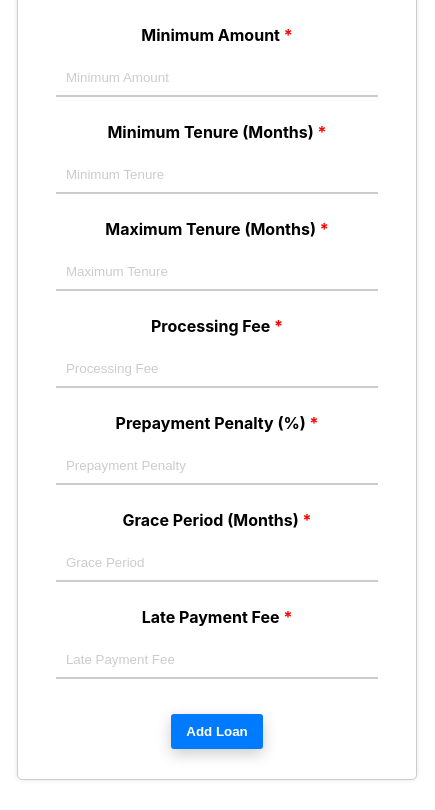
it: LoanForm Component › frontend_loanform_loan_manager_component_displays_required_validation_messages
The width and height of the screenshot is (435, 810).
(page scrolled)
Step 1. Click the button "Add Loan" → (217, 732), box top-left (171, 714), bottom-right (263, 749)
(page scrolled)
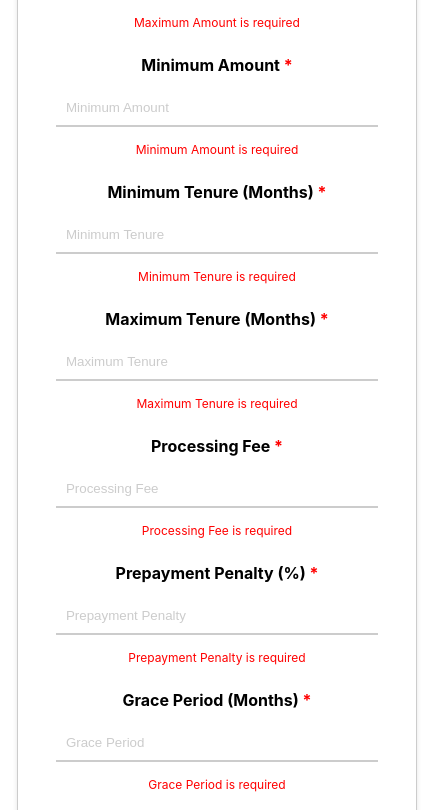
Result: the text "Maximum Amount is required" is shown at top-left (134, 15), bottom-right (300, 30)
Result: the text "Minimum Amount is required" is shown at top-left (136, 142), bottom-right (298, 157)
